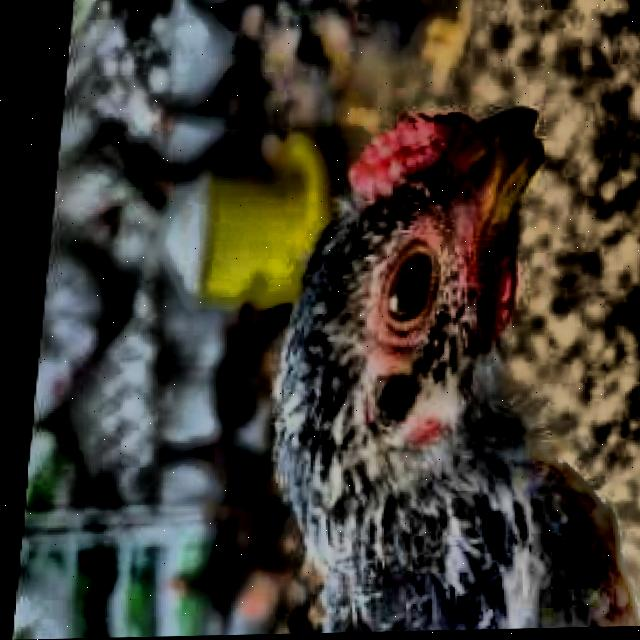Healthy: (379, 242, 441, 351)
